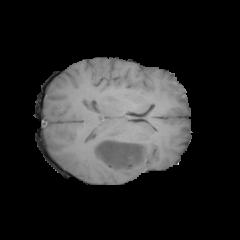glioma: (92, 70, 154, 171)
